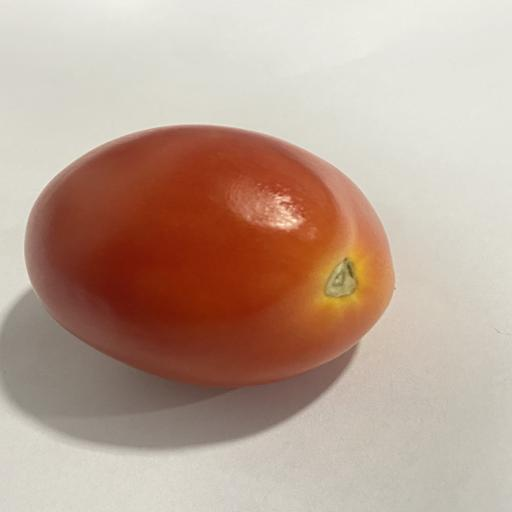ripe: (25, 125, 394, 387)
